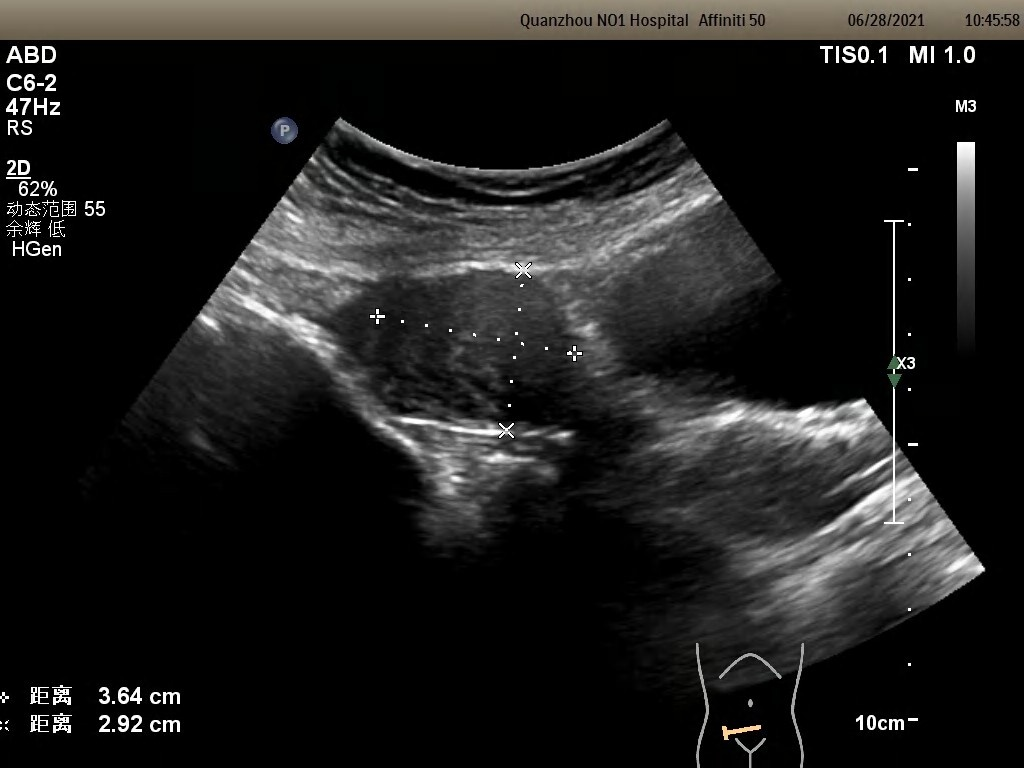肌瘤: (392, 275, 573, 422)
